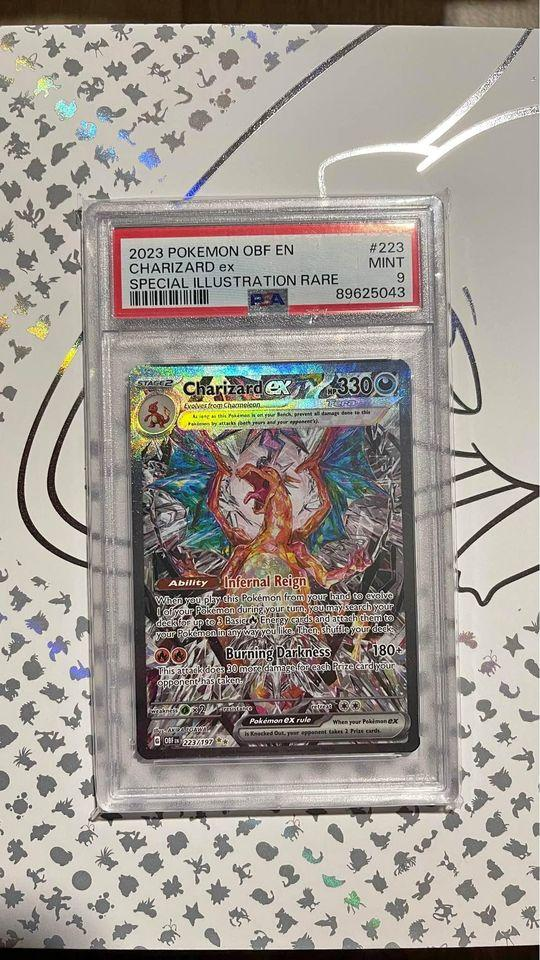card: (129, 361, 424, 765)
